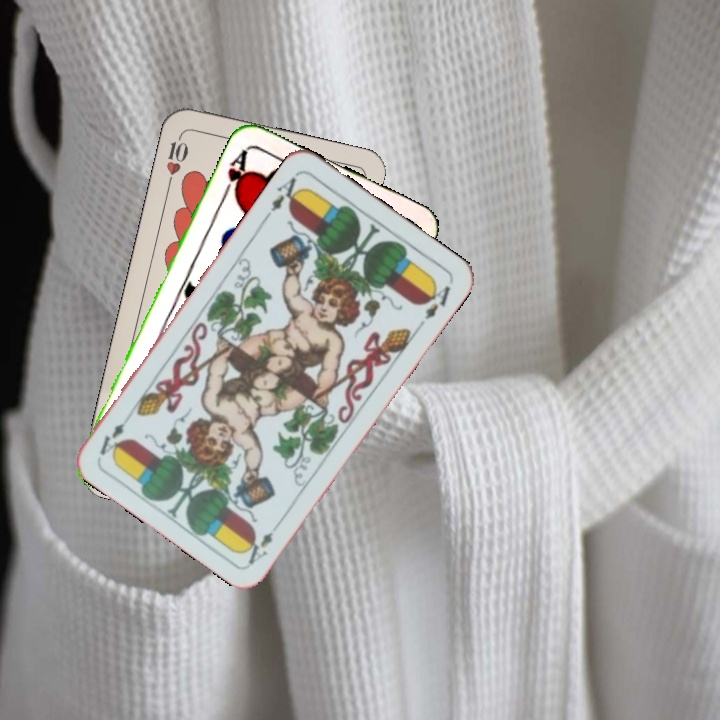EA: (266, 170, 305, 215), (241, 527, 276, 567)
H10: (161, 130, 191, 189)
HA: (218, 145, 251, 201)
